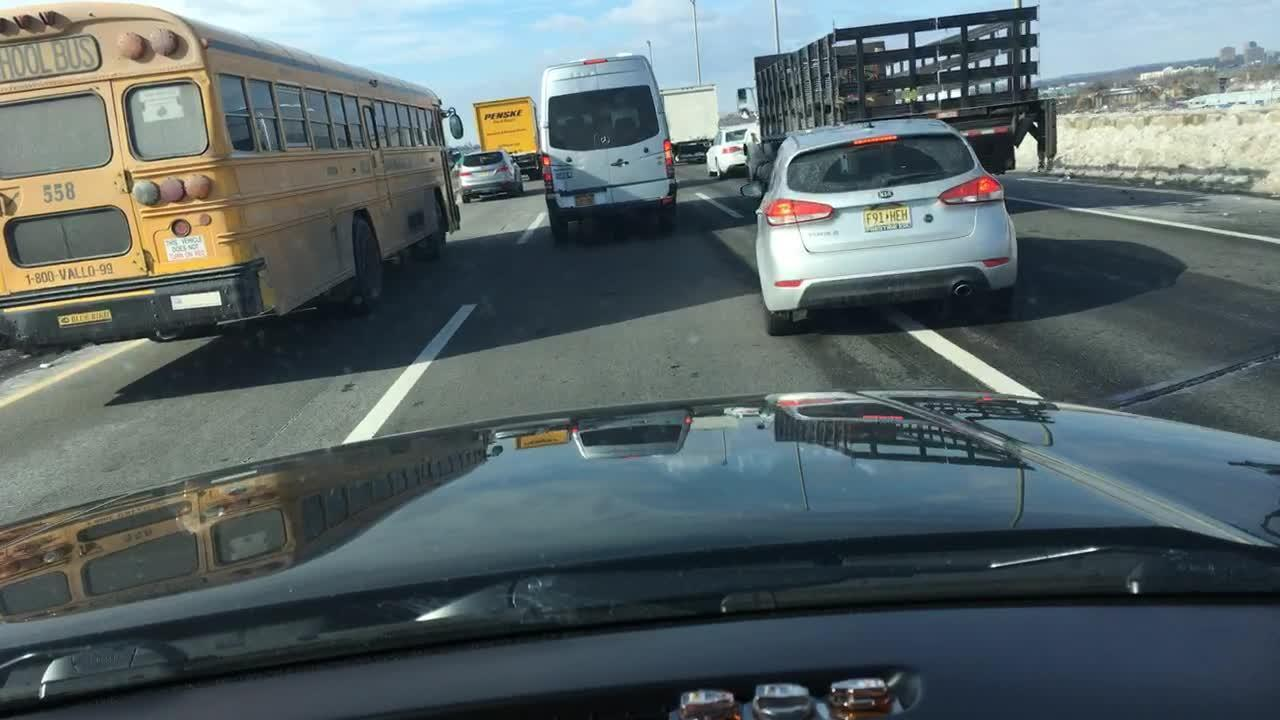Mercedes: (597, 131, 616, 148)
kia: (875, 187, 897, 202)
